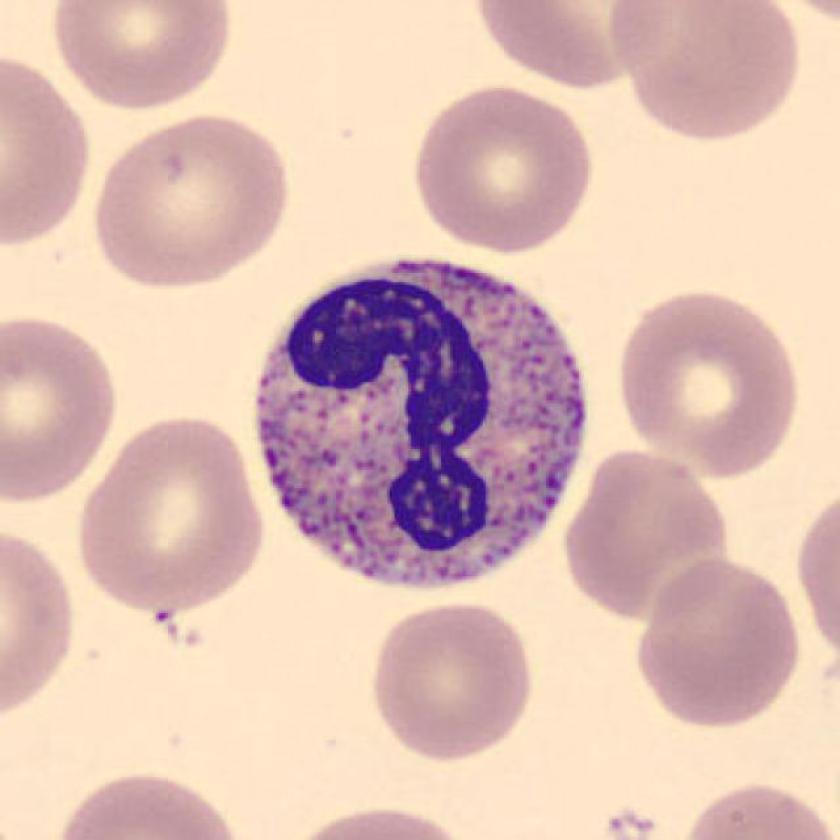neutrophil: (257, 261, 584, 585)
